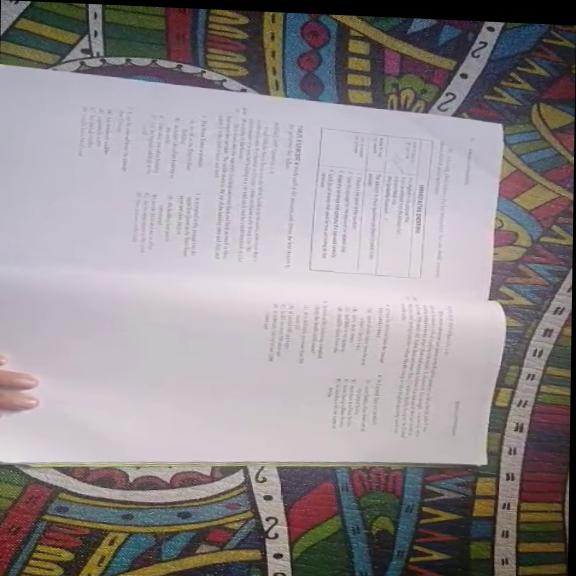Kertas: (0, 67, 500, 299), (0, 104, 502, 304), (0, 276, 503, 464)
